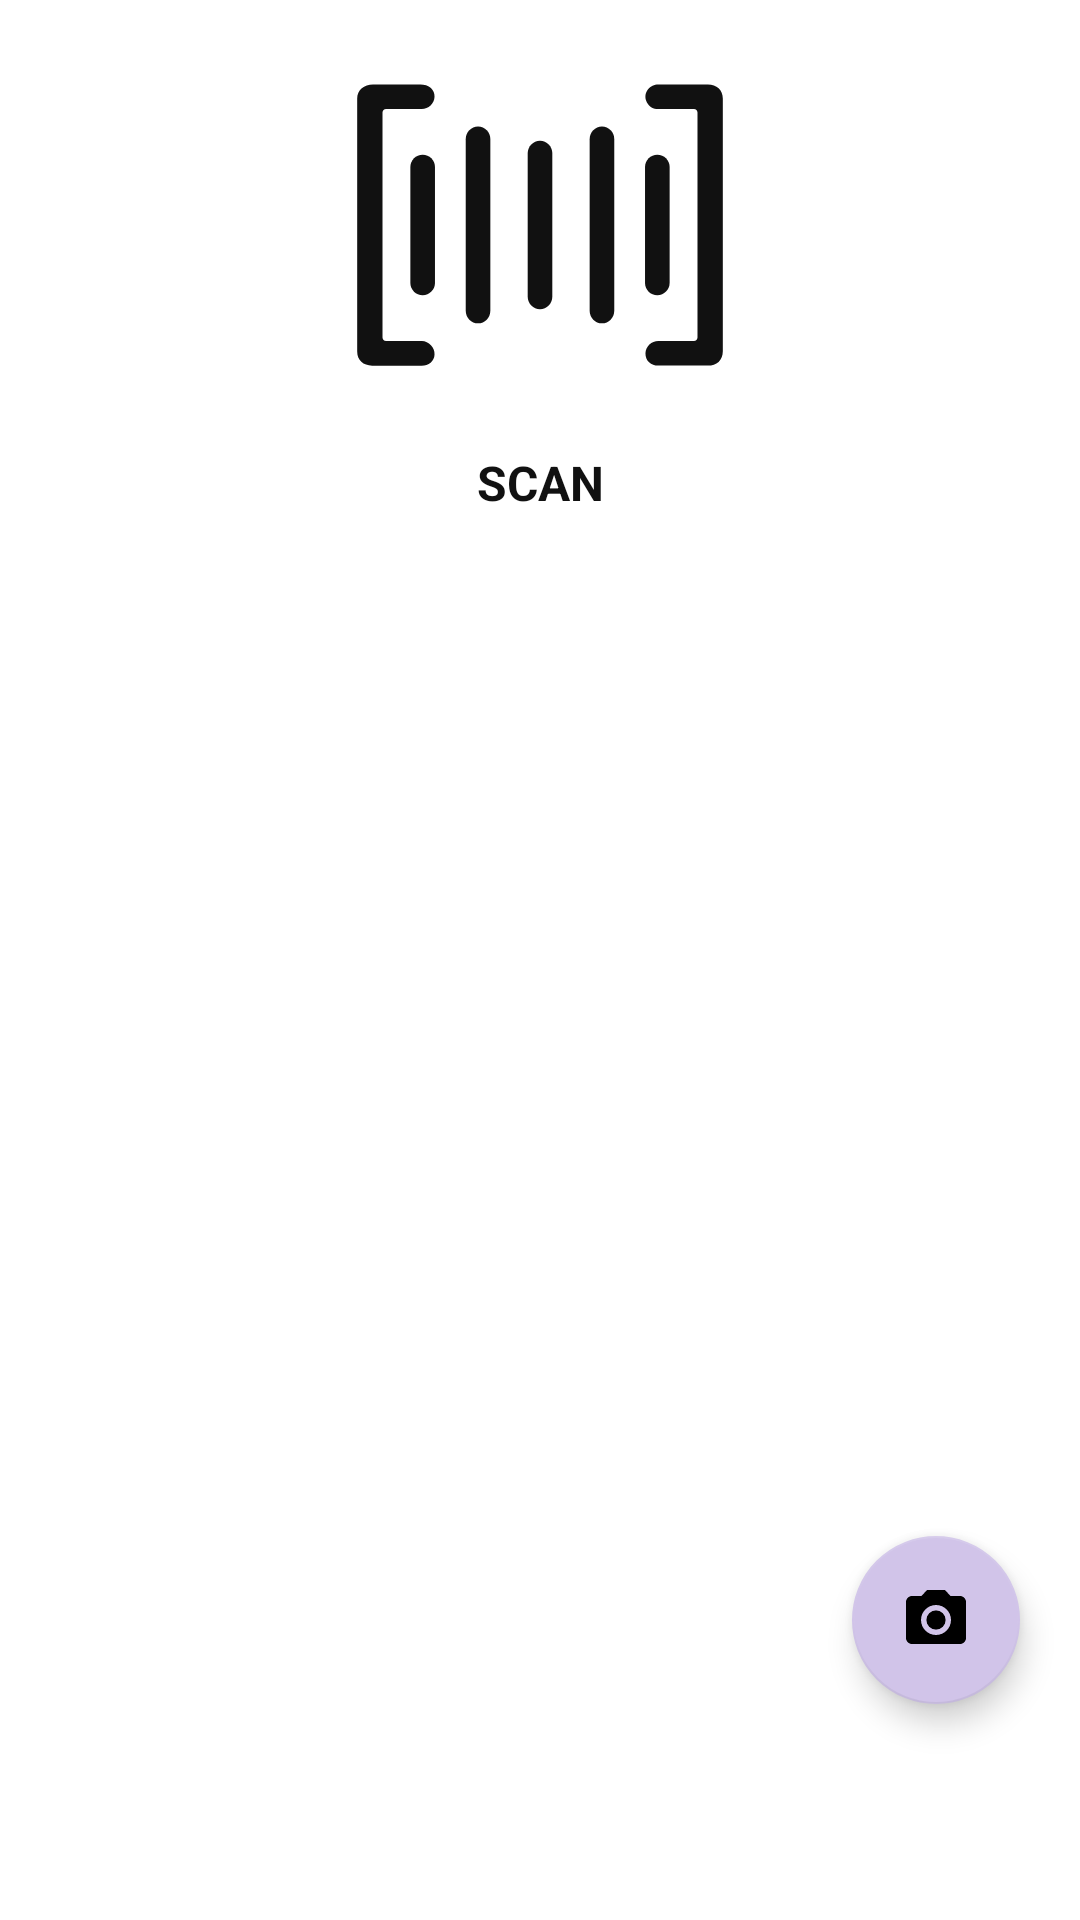

Icons on this 1080x1920 Android screen, each with its box as (x1, y1, x2, y2):
camera: (852, 1536, 1020, 1704)
